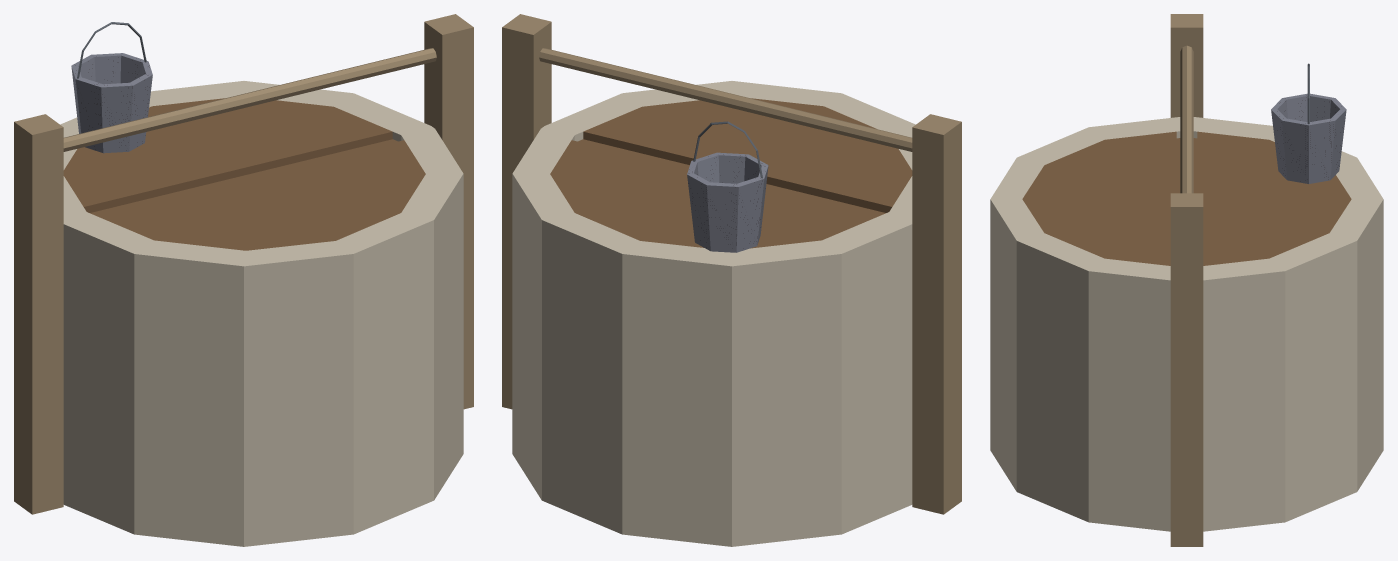
Rendered from Well.fbx.
3 renders of one model, left to right at view 1: azimuth 30°, elevation 25°; view 2: azimuth 150°, elevation 25°; view 3: azimuth 270°, elevation 25°, orthographic. The views are drawn at different scales.
Visible parts, largest first — view 1: Well; view 2: Well; view 3: Well.
Part boxes in pixels (bbox=[...]): Well: bbox=[14, 14, 473, 546]; Well: bbox=[502, 14, 961, 546]; Well: bbox=[990, 14, 1383, 546].
Bounding box in the file's own units: 280 × 241 × 241.
